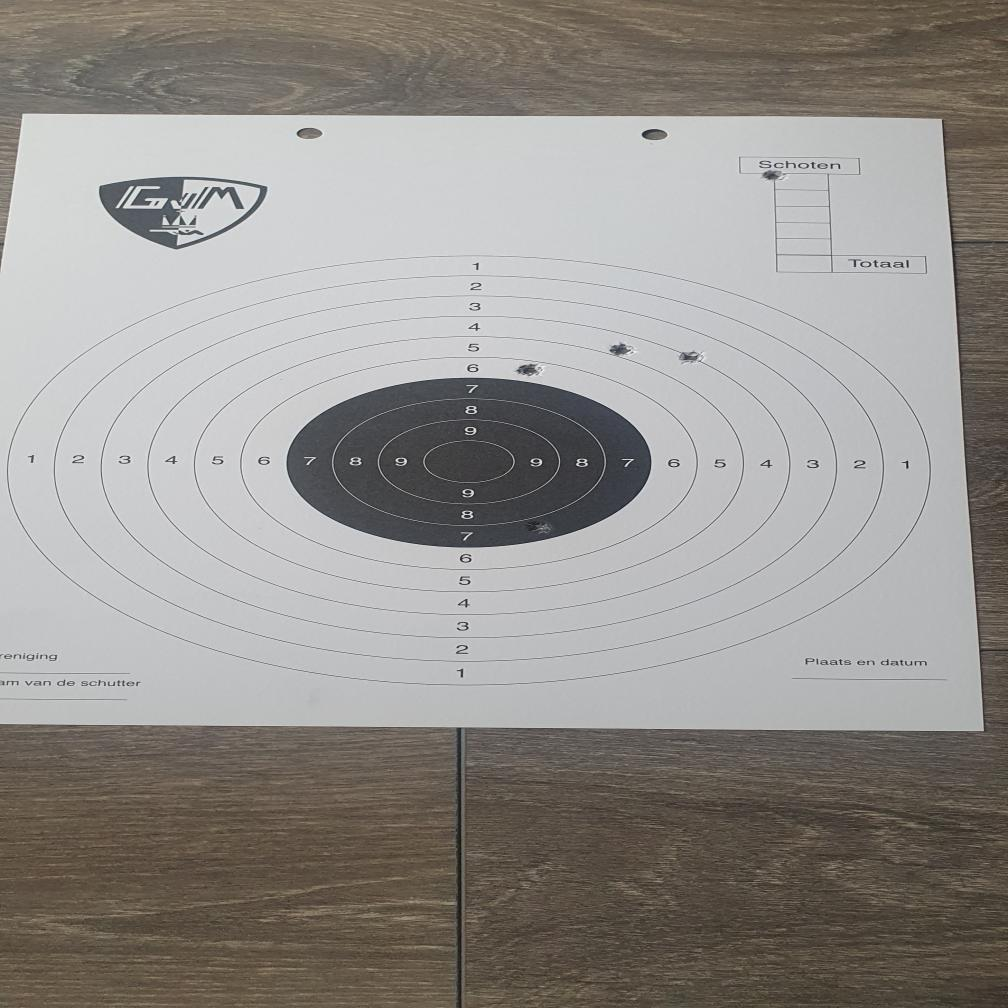0: (759, 167, 793, 181)
4: (606, 340, 639, 358), (674, 349, 708, 365)
6: (512, 362, 546, 377)
7: (519, 519, 558, 535)
Target: (13, 256, 941, 688)
black_contour: (289, 376, 653, 546)
